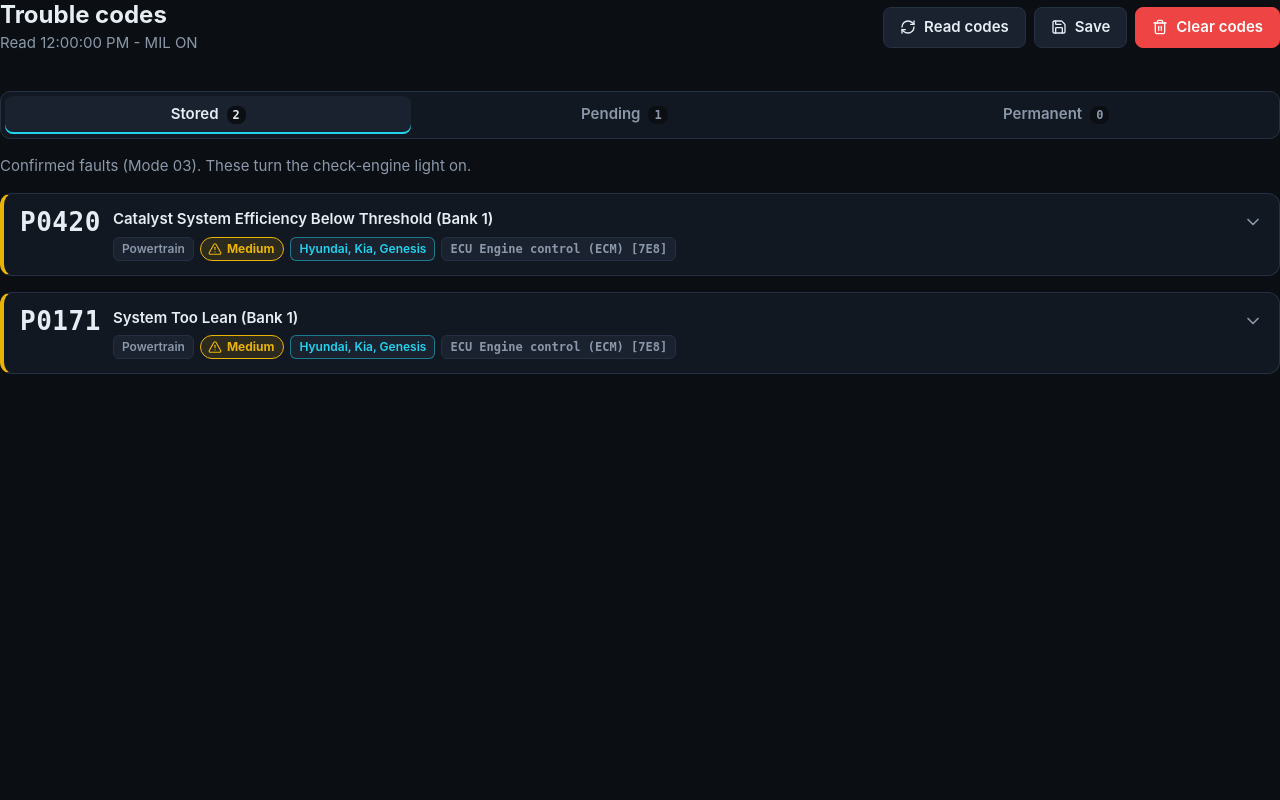
Test case: CodesPage › requires the checkbox before the clear button is enabled
The image size is (1280, 800).
Click the button "Clear codes": (1208, 27) [1135, 7, 1279, 48]
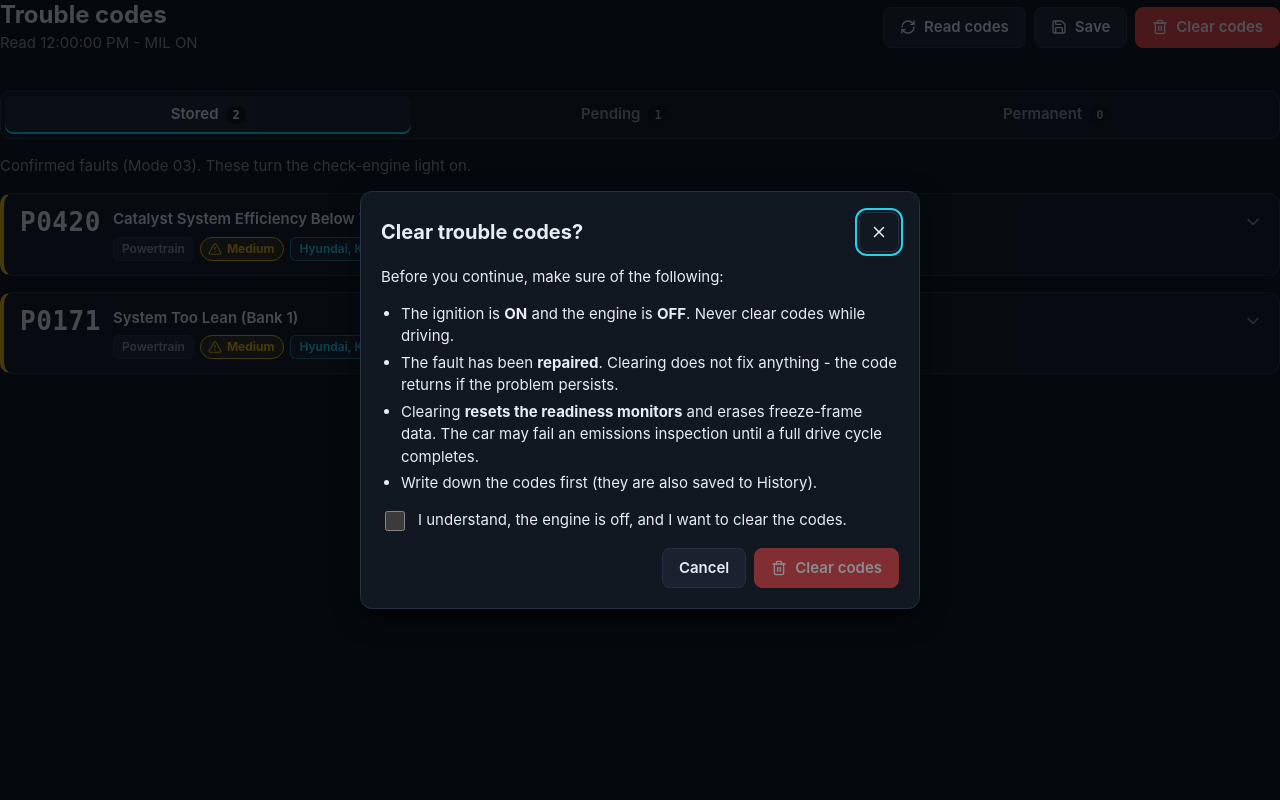
Expected: the button "Clear codes" is disabled
Click the button "Clear codes": (827, 568) [754, 548, 899, 588]
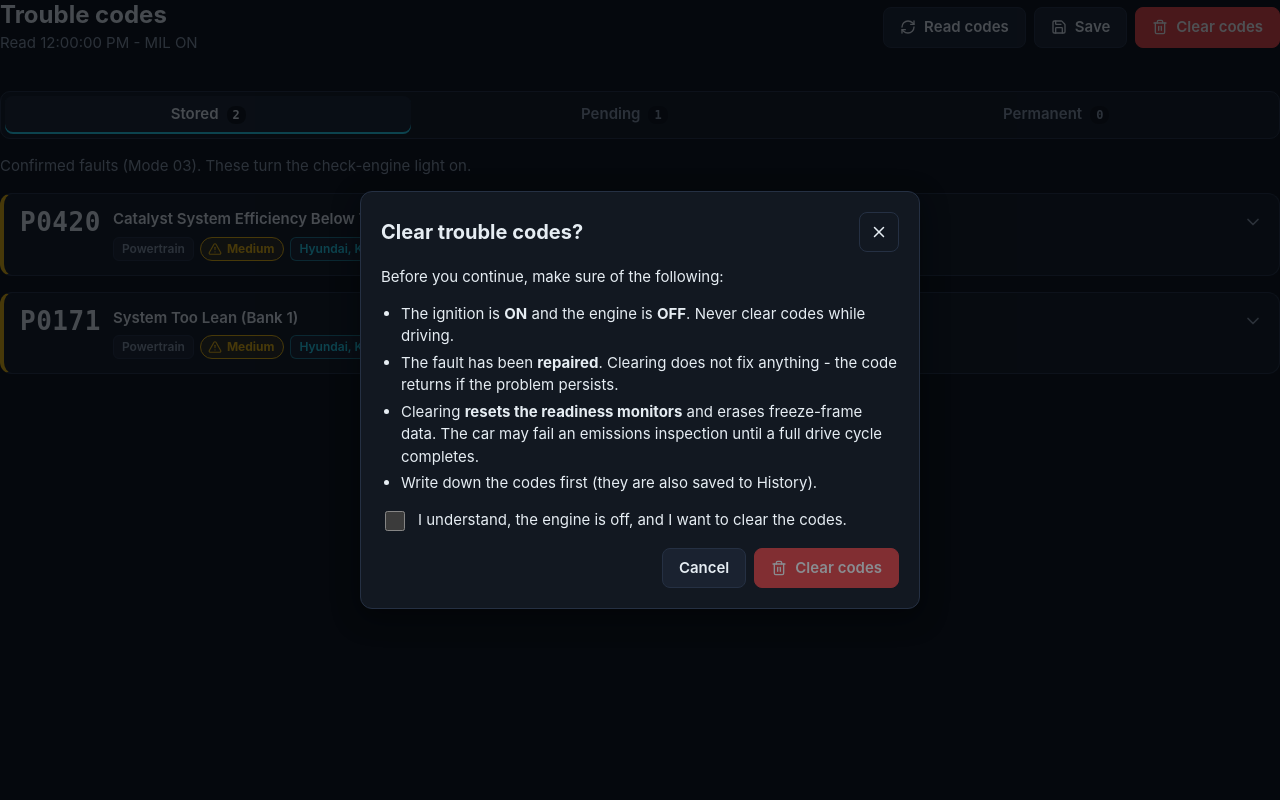
Click the checkbox: (395, 520) [385, 510, 405, 530]
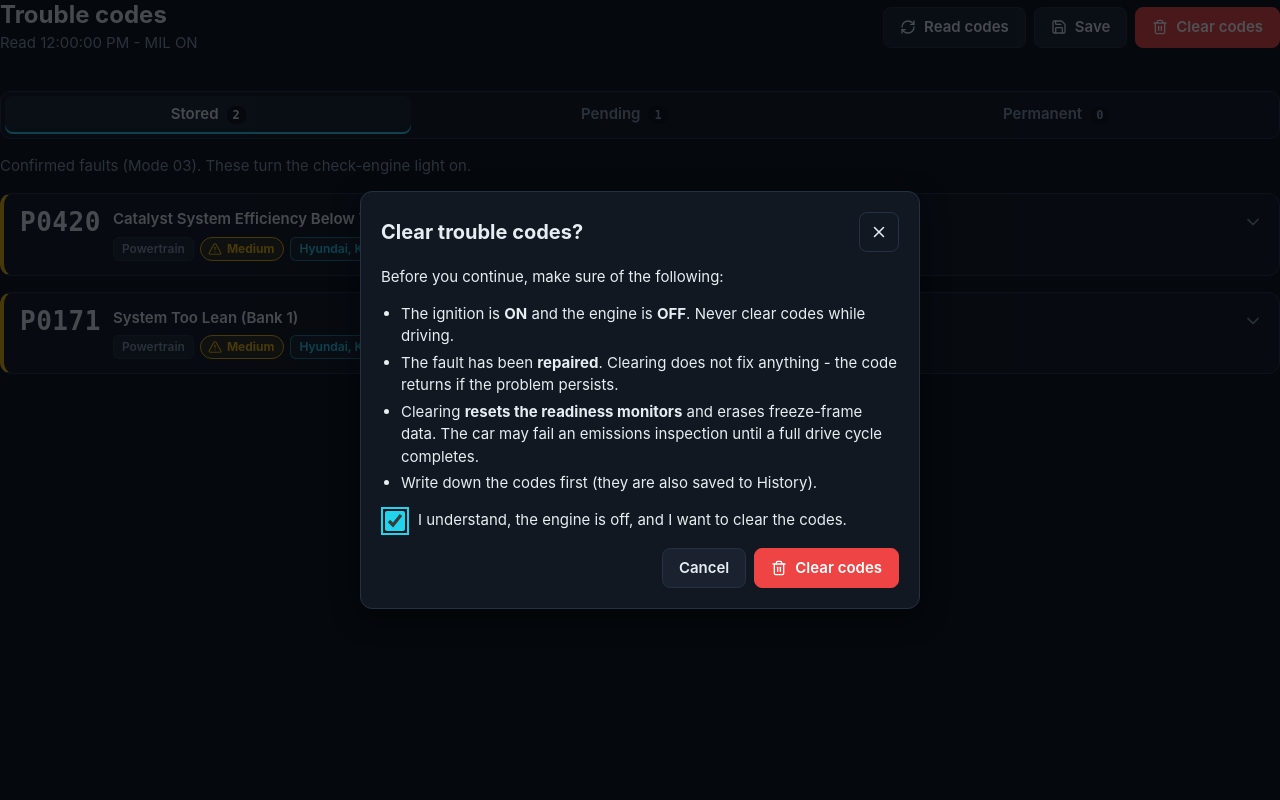
Expected: the button "Clear codes" is enabled
Click the button "Clear codes": (827, 568) [754, 548, 899, 588]
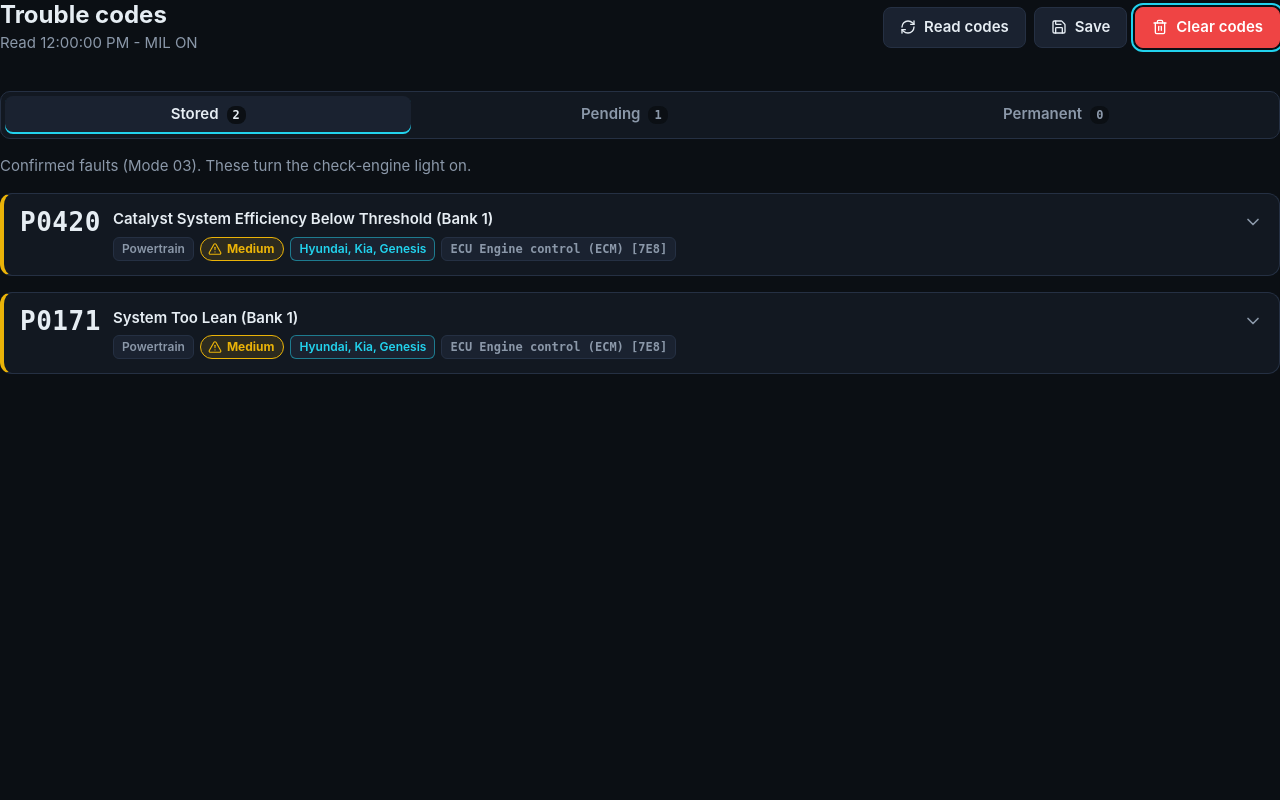
Expected: the dialog is gone
